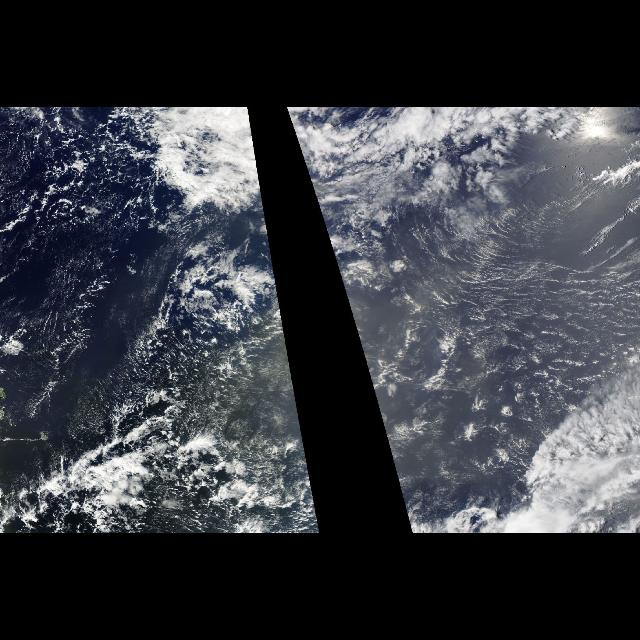Fish: (2, 365, 320, 533)
Gravel: (1, 108, 187, 380)
Sugar: (388, 196, 640, 364)
